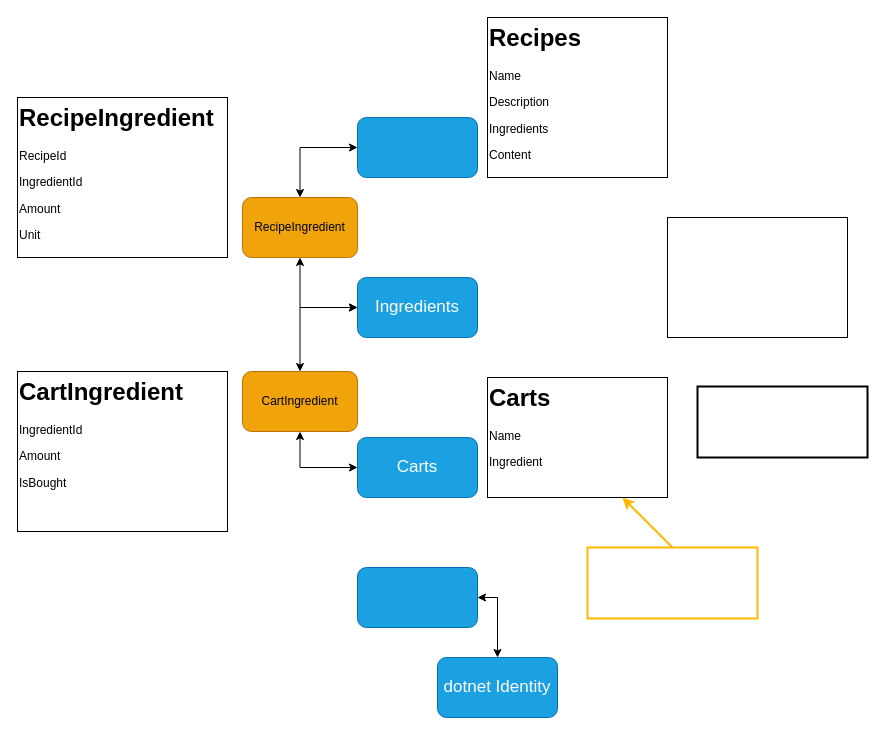
The diagram is 886 pixels wide and 735 high, and some of its shapes have lost their labels. The box of each missing label's shape, as (x1, y1, x2, y2) in pixels:
But how to import ingrdients from recipes?: (586, 546, 758, 619)
Ingredients Name Shelf life IsAllergy: (666, 216, 848, 338)
Recipes: (356, 116, 478, 178)
Users: (356, 566, 478, 628)
購物清單需要一群一群， 可各自新增購物清單。: (696, 385, 868, 458)
